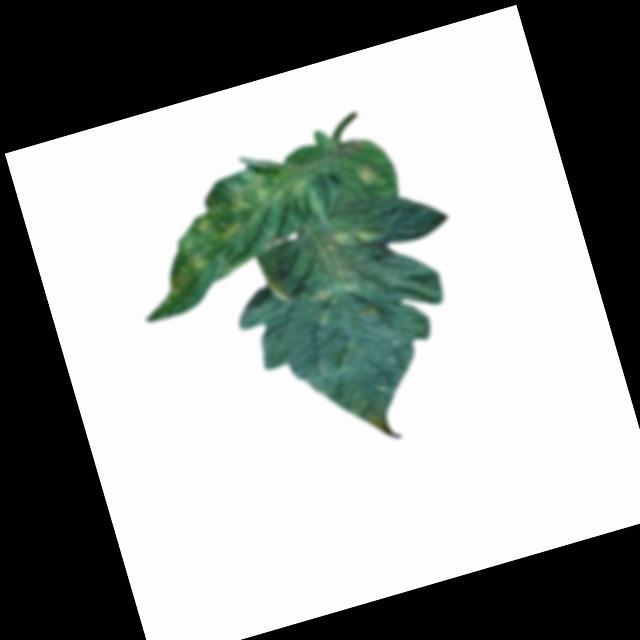Leaf_Mold: (142, 147, 360, 295), (283, 218, 396, 313), (353, 161, 384, 190)
